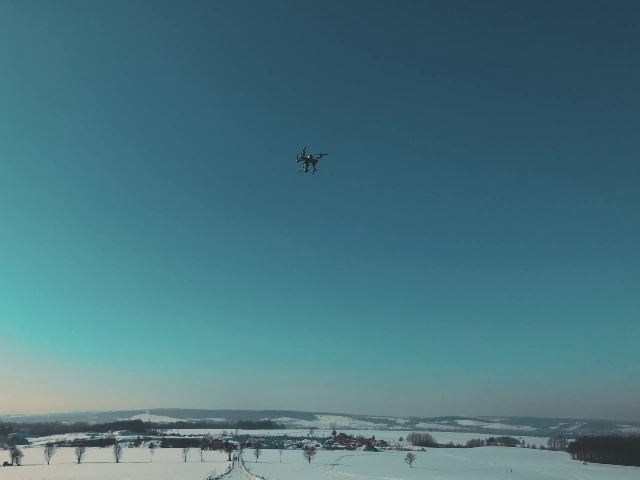drone: (294, 144, 330, 175)
